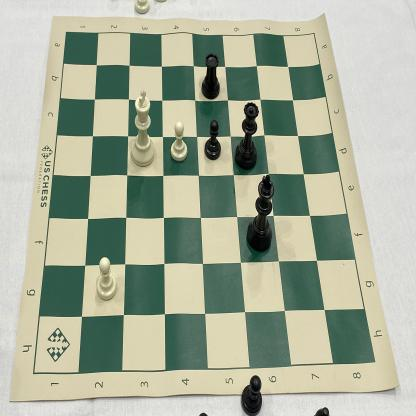black-king: (246, 172, 277, 257)
black-pawn: (202, 118, 222, 162)
black-queen: (232, 97, 260, 172)
black-rook: (200, 52, 221, 103)
white-king: (129, 87, 157, 170)
white-pawn: (94, 256, 120, 304), (168, 119, 190, 164)
